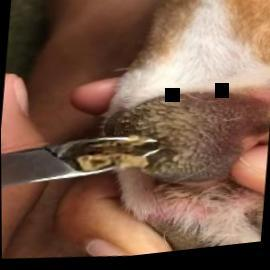keratosis: (97, 83, 236, 201)
